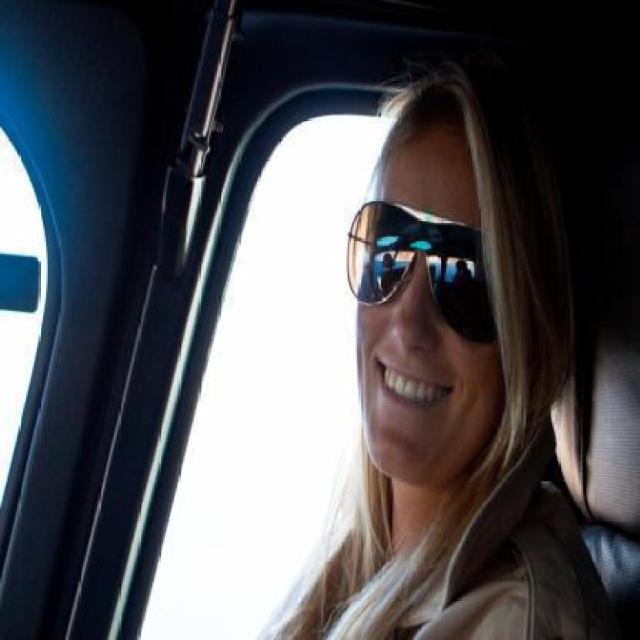face_nomask: (350, 202, 504, 432)
glasses: (351, 191, 503, 327)
head_nohelmet: (365, 75, 561, 182)
